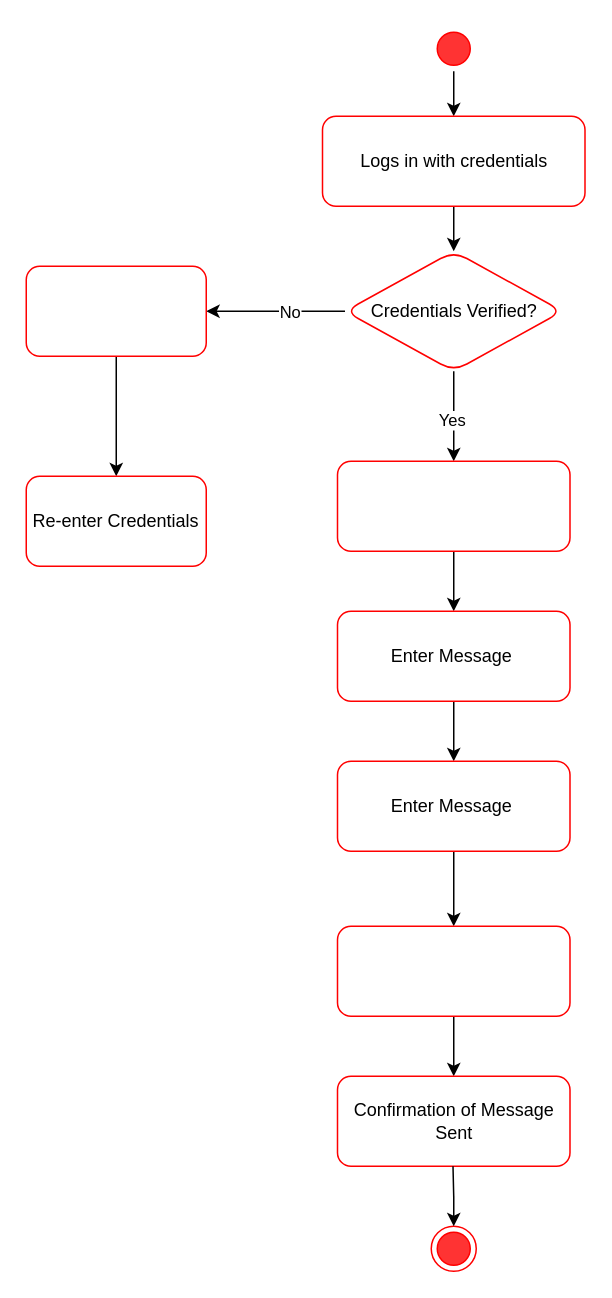
This 612x1298 diagram has some shape labels left out. Here are the shapes that lost their labels. From the top down, the box of each, then its label:
(25, 265, 206, 356): Display Error Message
(336, 460, 570, 551): Navigate to 'Send Message..' Page
(336, 925, 570, 1016): Click "Send"
